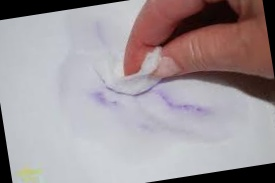ink: (165, 92, 204, 120), (88, 89, 114, 111)
